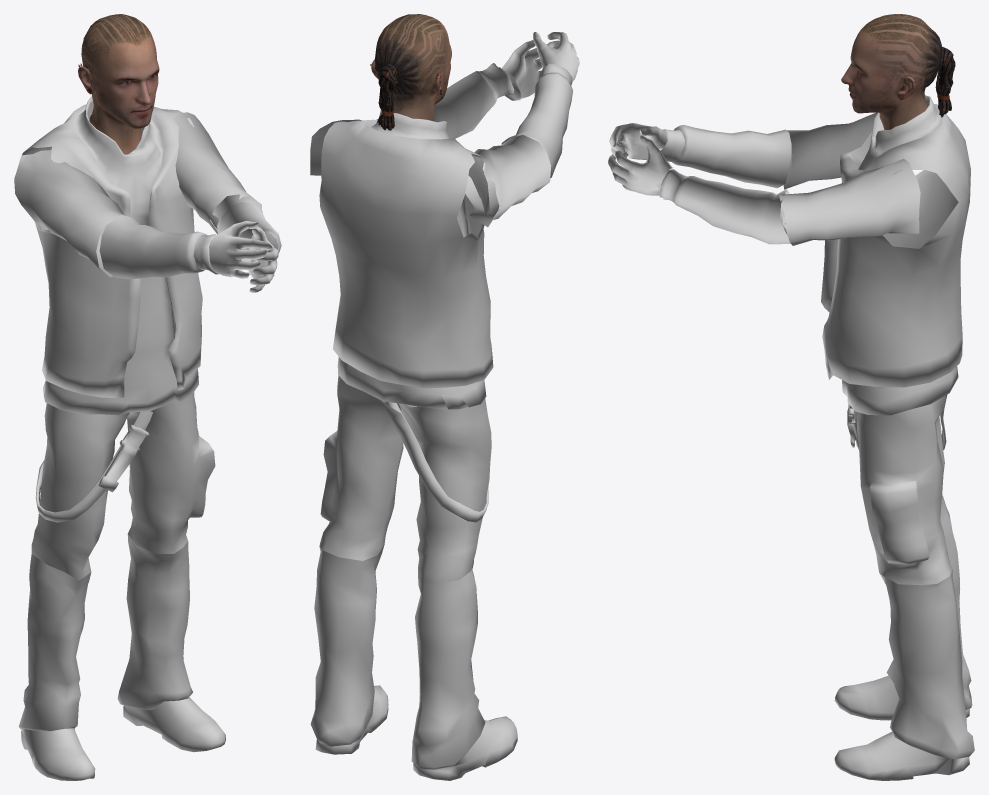
Rendered from carinhaloko_stance.obj.
The picture shows the model from 3 angles, left to right: view 1: azimuth 30°, elevation 25°; view 2: azimuth 150°, elevation 25°; view 3: azimuth 270°, elevation 25°; orthographic projection.
Parts seen in each view (by area): view 1: Torso, RightThigh, LeftThigh, LeftShin, RightShin, Head, RightUpperArm, RightLowerArm, LeftUpperArm, LeftFoot, RightFoot, RightHand (+2 smaller); view 2: Torso, RightThigh, RightShin, LeftThigh, LeftShin, Head, RightUpperArm, RightLowerArm, LeftLowerArm, RightFoot, LeftHand, RightHand (+2 smaller); view 3: Torso, LeftThigh, LeftShin, Head, LeftUpperArm, RightLowerArm, LeftLowerArm, LeftFoot, RightUpperArm, RightFoot, LeftHand, RightHand (+2 smaller).
Boxes of the visible parts, bbox=[...] form: Torso: bbox=[22, 96, 202, 415]; RightThigh: bbox=[31, 380, 153, 580]; LeftThigh: bbox=[126, 392, 215, 553]; LeftShin: bbox=[117, 534, 192, 710]; RightShin: bbox=[18, 554, 91, 731]; Head: bbox=[78, 14, 159, 154]; RightUpperArm: bbox=[14, 150, 125, 277]; RightLowerArm: bbox=[99, 215, 218, 279]; LeftUpperArm: bbox=[173, 112, 262, 234]; LeftFoot: bbox=[123, 697, 225, 752]; RightFoot: bbox=[21, 728, 95, 780]; RightHand: bbox=[209, 221, 272, 278]; Torso: bbox=[319, 110, 493, 412]; RightThigh: bbox=[382, 395, 491, 583]; RightShin: bbox=[411, 562, 485, 769]; LeftThigh: bbox=[319, 375, 403, 560]; LeftShin: bbox=[310, 545, 384, 746]; Head: bbox=[370, 14, 451, 130]; RightUpperArm: bbox=[465, 135, 551, 227]; RightLowerArm: bbox=[501, 63, 572, 178]; LeftLowerArm: bbox=[434, 63, 514, 138]; RightFoot: bbox=[413, 716, 517, 780]; LeftHand: bbox=[501, 40, 555, 100]; RightHand: bbox=[533, 32, 579, 81]; Torso: bbox=[821, 95, 970, 415]; LeftThigh: bbox=[858, 395, 952, 585]; LeftShin: bbox=[879, 569, 974, 759]; Head: bbox=[841, 14, 955, 129]; LeftUpperArm: bbox=[779, 158, 920, 245]; RightLowerArm: bbox=[660, 124, 791, 188]; LeftLowerArm: bbox=[661, 169, 790, 244]; LeftFoot: bbox=[834, 731, 969, 780]; RightUpperArm: bbox=[783, 112, 877, 189]; RightFoot: bbox=[834, 675, 969, 720]; LeftHand: bbox=[608, 135, 673, 197]; RightHand: bbox=[609, 123, 667, 159].
Size of the model in its own units: 1.46 by 5.39 by 2.48.
